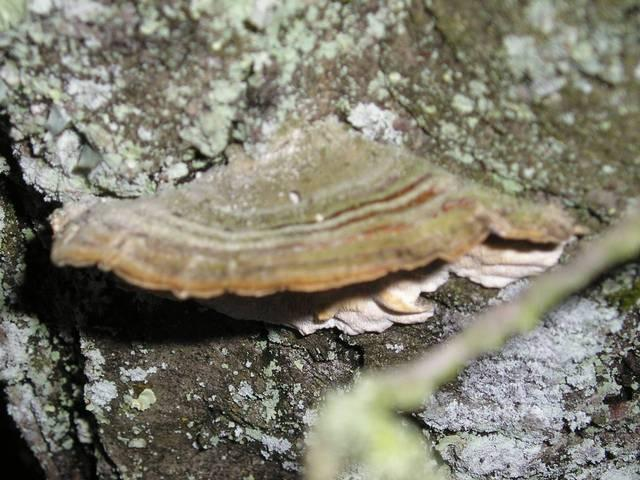Non-edible Mushroom: (46, 117, 574, 337)
